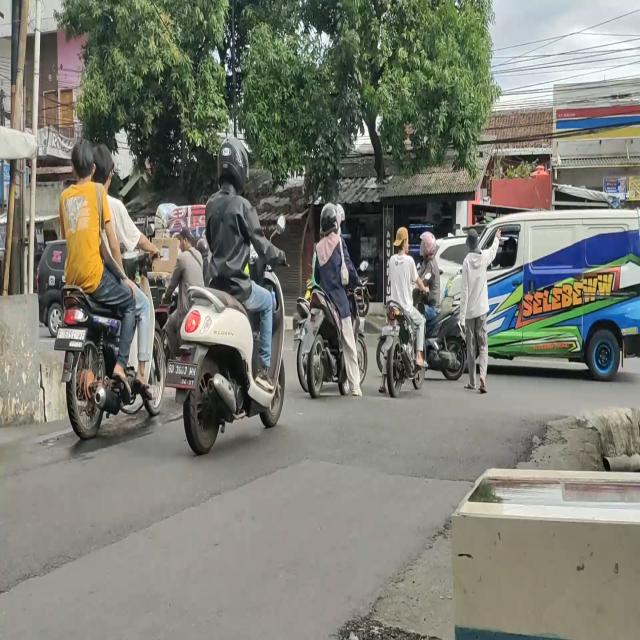helmet: (218, 132, 245, 181), (321, 203, 340, 234), (419, 233, 436, 251)
no-helmet: (72, 143, 94, 177), (96, 144, 113, 182), (394, 223, 410, 254), (180, 228, 193, 252)
